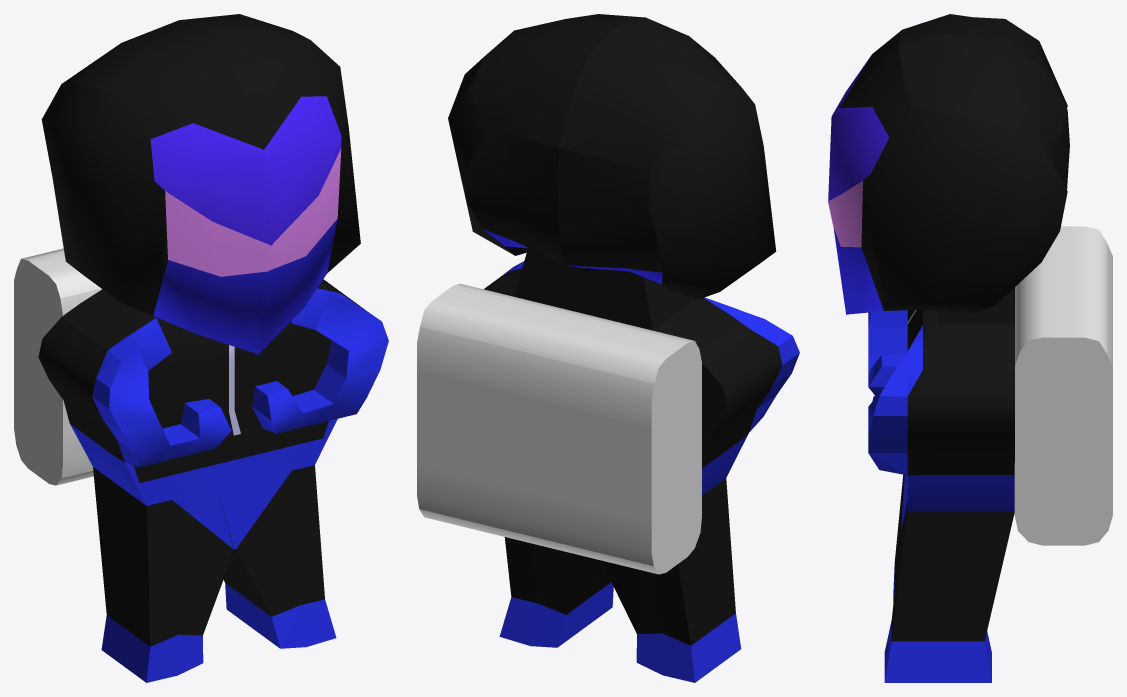
Rendered from Personaje.fbx.
3 views of the same model, side by side, from view 1: azimuth 30°, elevation 25°; view 2: azimuth 150°, elevation 25°; view 3: azimuth 270°, elevation 25° (orthographic). The views are drawn at different scales.
Visible parts, largest first — view 1: Box008, Box010, Box009, Box007, Box011; view 2: Box011, Box008, Box010, Box007, Box009; view 3: Box007, Box009, Box011, Box008, Box010.
Part boxes in pixels (left/top/right/bottom): Box008: left=41, top=20, right=272, bottom=354; Box010: left=38, top=289, right=234, bottom=682; Box009: left=211, top=279, right=388, bottom=648; Box007: left=179, top=14, right=360, bottom=354; Box011: left=14, top=248, right=101, bottom=485; Box011: left=417, top=283, right=701, bottom=574; Box008: left=557, top=17, right=776, bottom=299; Box010: left=601, top=269, right=799, bottom=682; Box007: left=448, top=14, right=645, bottom=265; Box009: left=484, top=250, right=613, bottom=647; Box007: left=828, top=33, right=1069, bottom=314; Box009: left=868, top=287, right=1014, bottom=682; Box011: left=1014, top=226, right=1112, bottom=545; Box008: left=828, top=14, right=1067, bottom=314; Box010: left=868, top=310, right=909, bottom=602.
Bounding box in the file's own units: 5.08 × 10.5 × 4.47.
